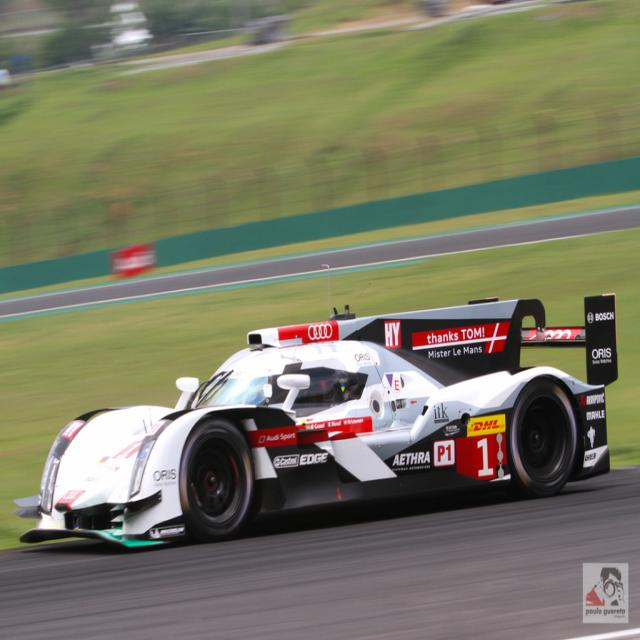car: (12, 289, 617, 546)
